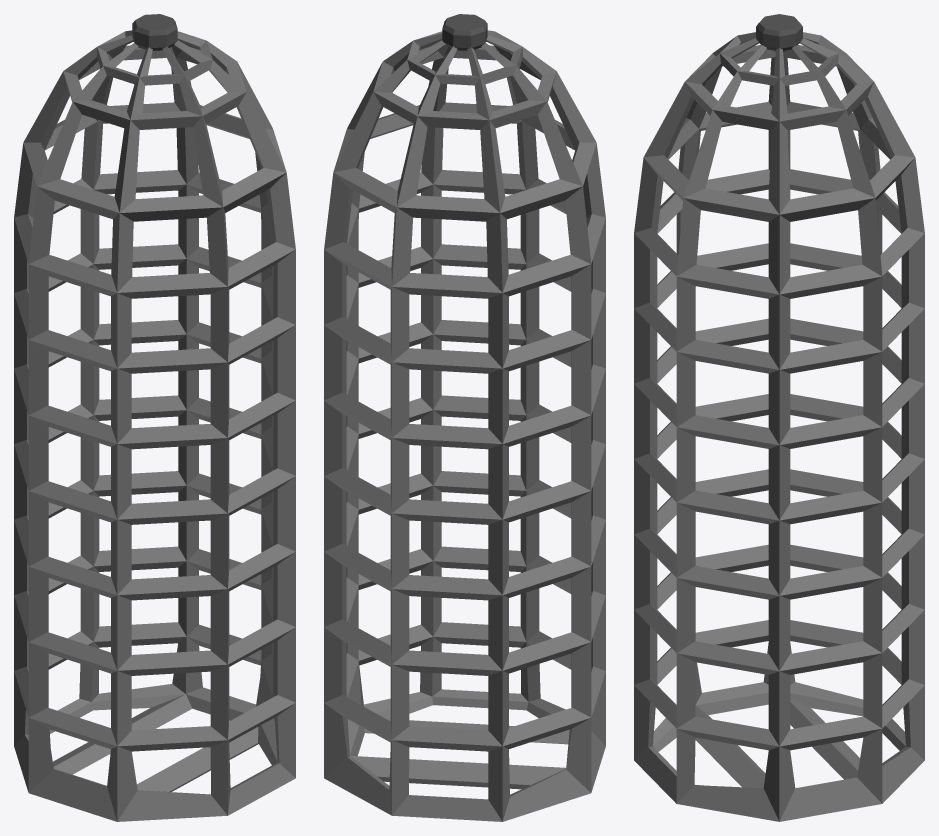
File: LPCP_Cage08.fbx
3 views of the same model, side by side, from view 1: azimuth 30°, elevation 25°; view 2: azimuth 150°, elevation 25°; view 3: azimuth 270°, elevation 25° (orthographic).
Visible parts, largest first — view 1: LPCP_Cage08; view 2: LPCP_Cage08; view 3: LPCP_Cage08.
Part boxes in pixels (x1,y1,x2,y2): LPCP_Cage08: [14, 14, 295, 821]; LPCP_Cage08: [324, 14, 605, 821]; LPCP_Cage08: [634, 14, 924, 821].
Size of the model in its own units: 2 by 5.6 by 2.
